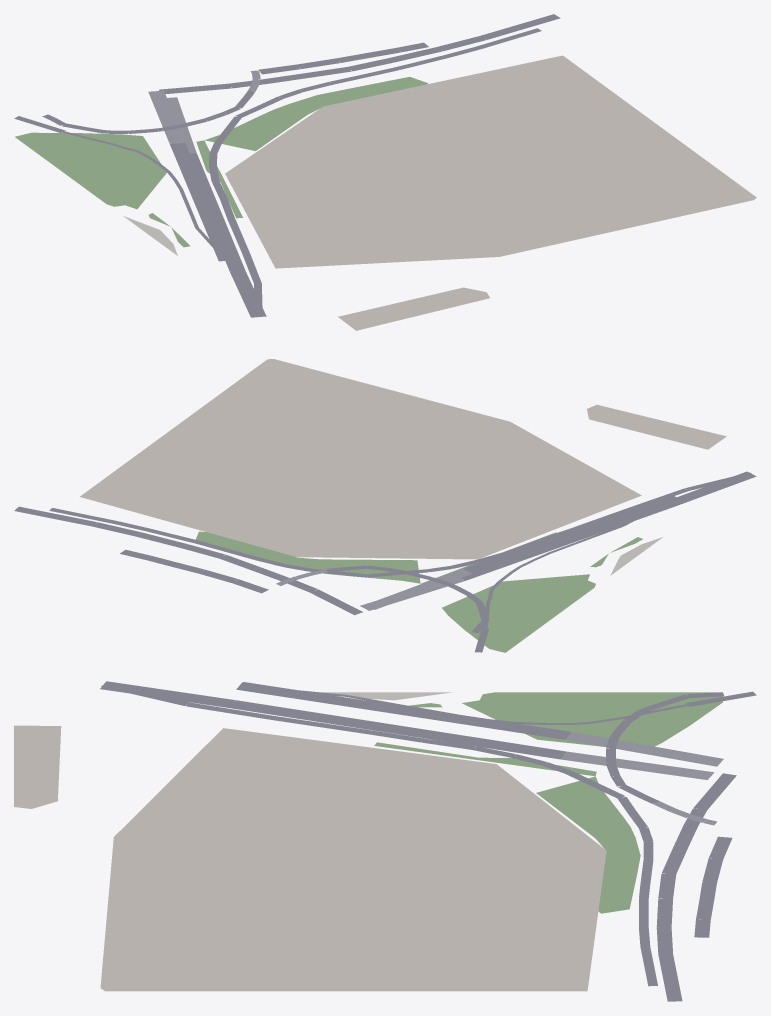
File: 116_116_mid.glb
3 renders of one model, top to bottom at view 1: azimuth 30°, elevation 25°; view 2: azimuth 150°, elevation 25°; view 3: azimuth 270°, elevation 25°, orthographic. The views are drawn at different scales.
Bounding box in the file's own units: 542 × 14.05 × 524.
